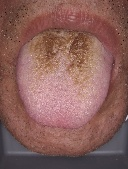tongue: (13, 39, 109, 130)
